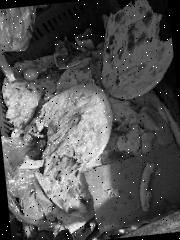organic: (101, 3, 175, 96), (34, 84, 115, 168), (40, 169, 88, 217), (132, 158, 164, 214), (22, 63, 46, 86)
